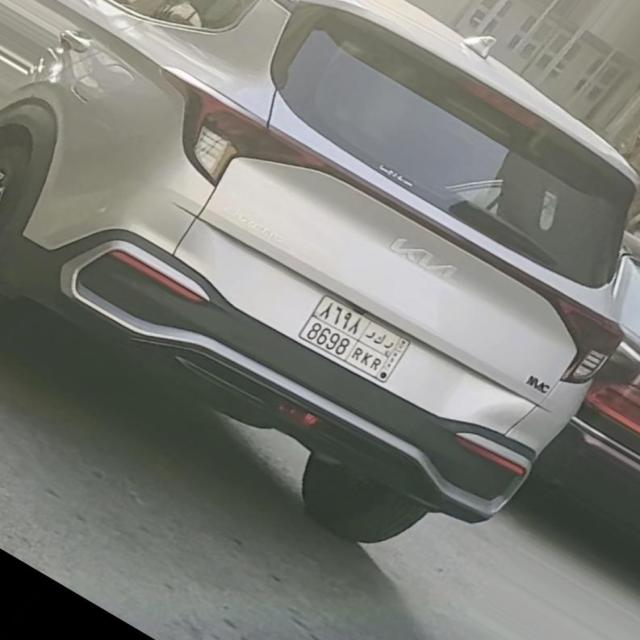Car-plate: (288, 285, 427, 391)
